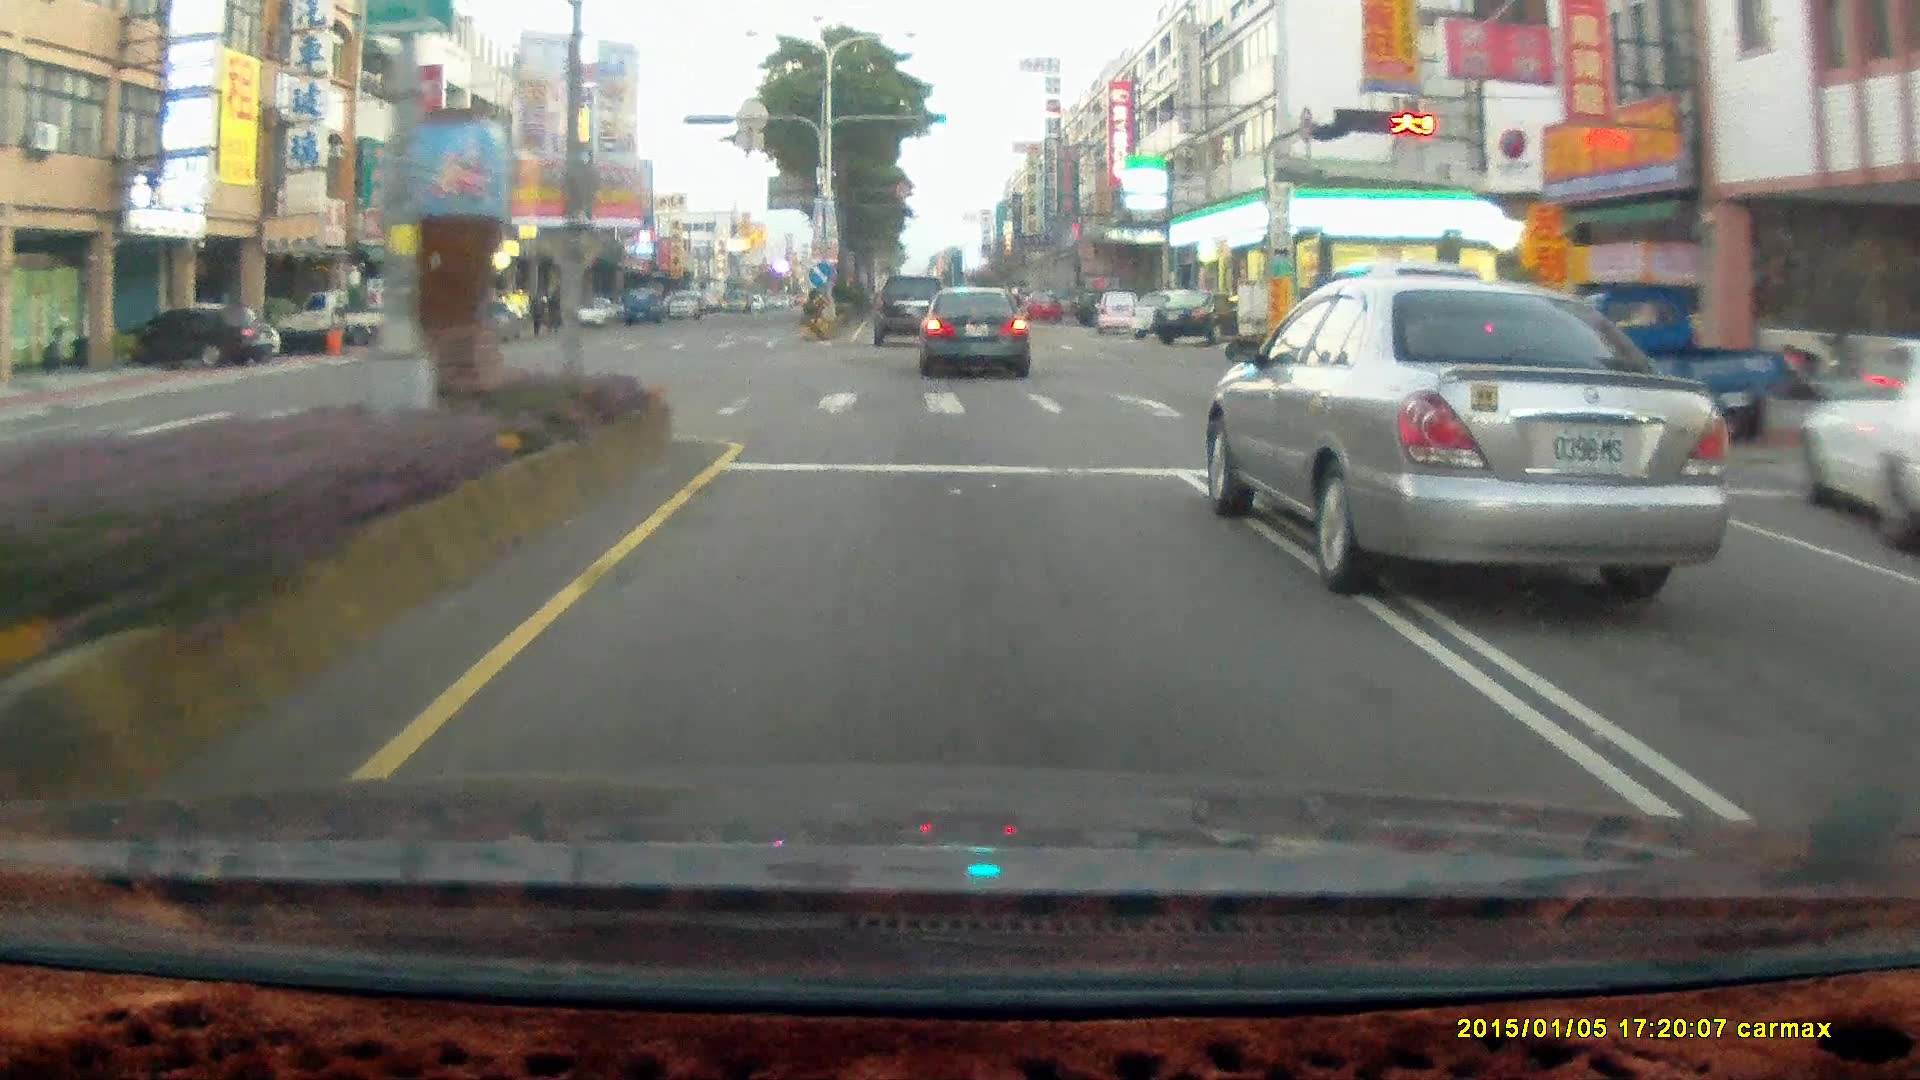pedestrian: (543, 288, 563, 338), (523, 293, 544, 339)
vehicle: (1201, 272, 1727, 586), (1526, 278, 1785, 446), (1537, 281, 1784, 449), (1301, 262, 1529, 413), (1793, 329, 1920, 551), (920, 287, 1033, 381), (918, 283, 1029, 377), (104, 304, 274, 365), (136, 303, 280, 366), (271, 290, 411, 354), (285, 291, 415, 358), (874, 271, 955, 348), (1152, 286, 1255, 341), (875, 272, 951, 343), (1157, 290, 1245, 349), (1128, 290, 1198, 338), (1090, 288, 1142, 332), (1069, 285, 1127, 325), (457, 304, 520, 341), (1095, 290, 1142, 336), (570, 295, 616, 326), (1021, 290, 1058, 321), (625, 289, 659, 320), (661, 289, 693, 314)
